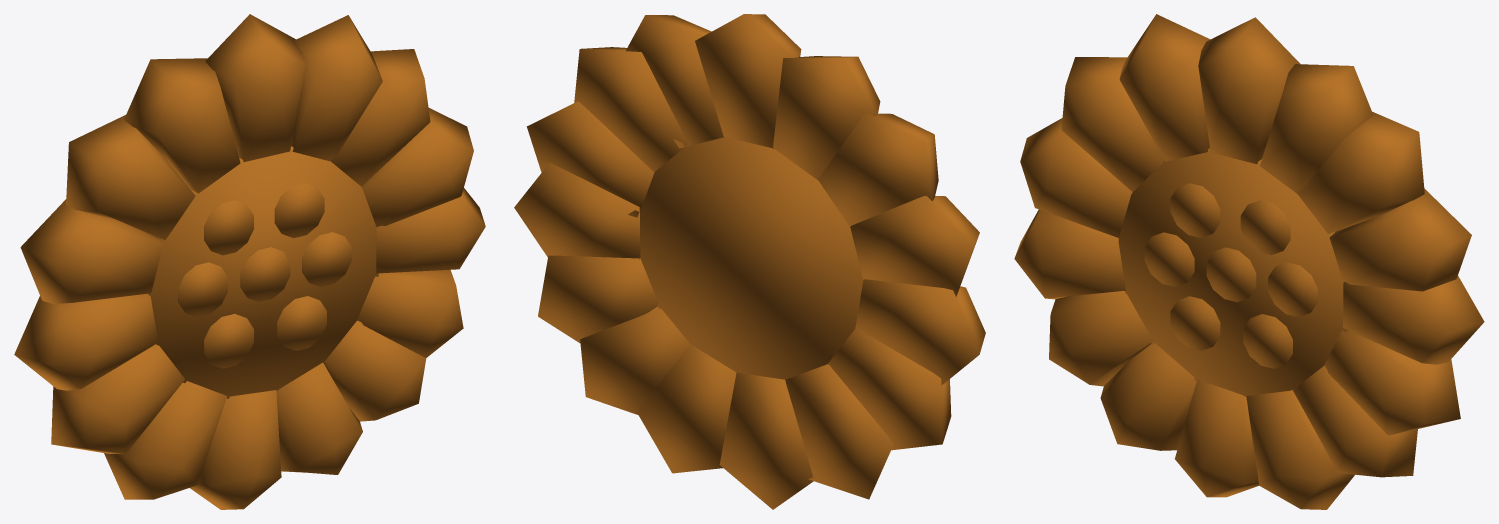
Rendered from Yakgua.fbx.
3 renders of one model, left to right at view 1: azimuth 30°, elevation 25°; view 2: azimuth 150°, elevation 25°; view 3: azimuth 330°, elevation 25°, orthographic.
Parts seen in each view (by area): view 1: Sphere.015; view 2: Sphere.015; view 3: Sphere.015.
Part boxes in pixels (x1,y1,x2,y2): Sphere.015: (14,14,485,509); Sphere.015: (514,14,985,509); Sphere.015: (1014,14,1484,509).
Bounding box in the file's own units: 48.54 × 48.7 × 5.46.
